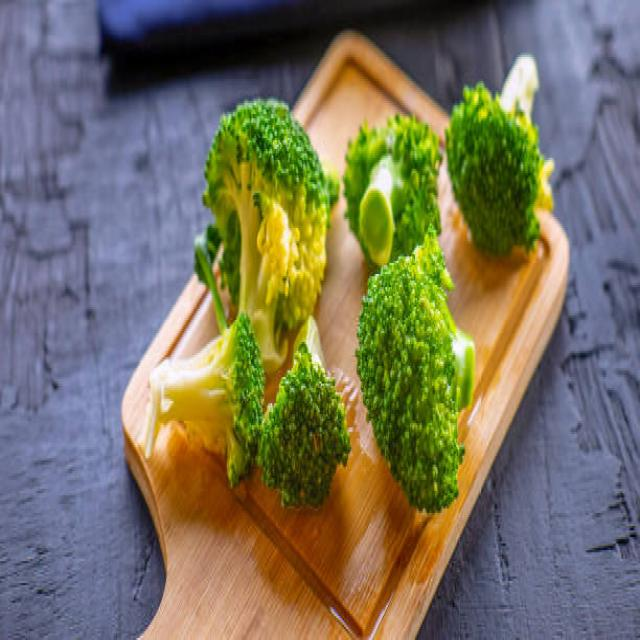broccoli: (452, 0, 561, 262), (196, 126, 324, 345), (374, 276, 469, 509), (155, 355, 266, 495), (276, 336, 363, 509), (360, 103, 440, 263)
